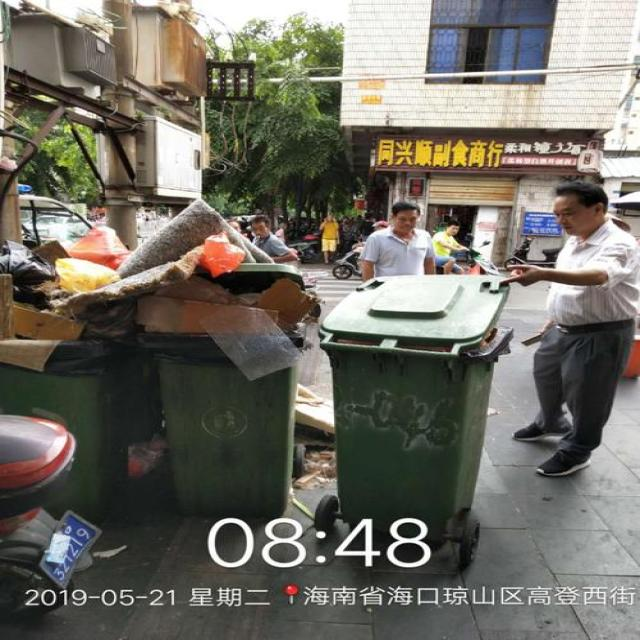overflow: (137, 199, 305, 519), (316, 272, 510, 548), (0, 226, 137, 520)
